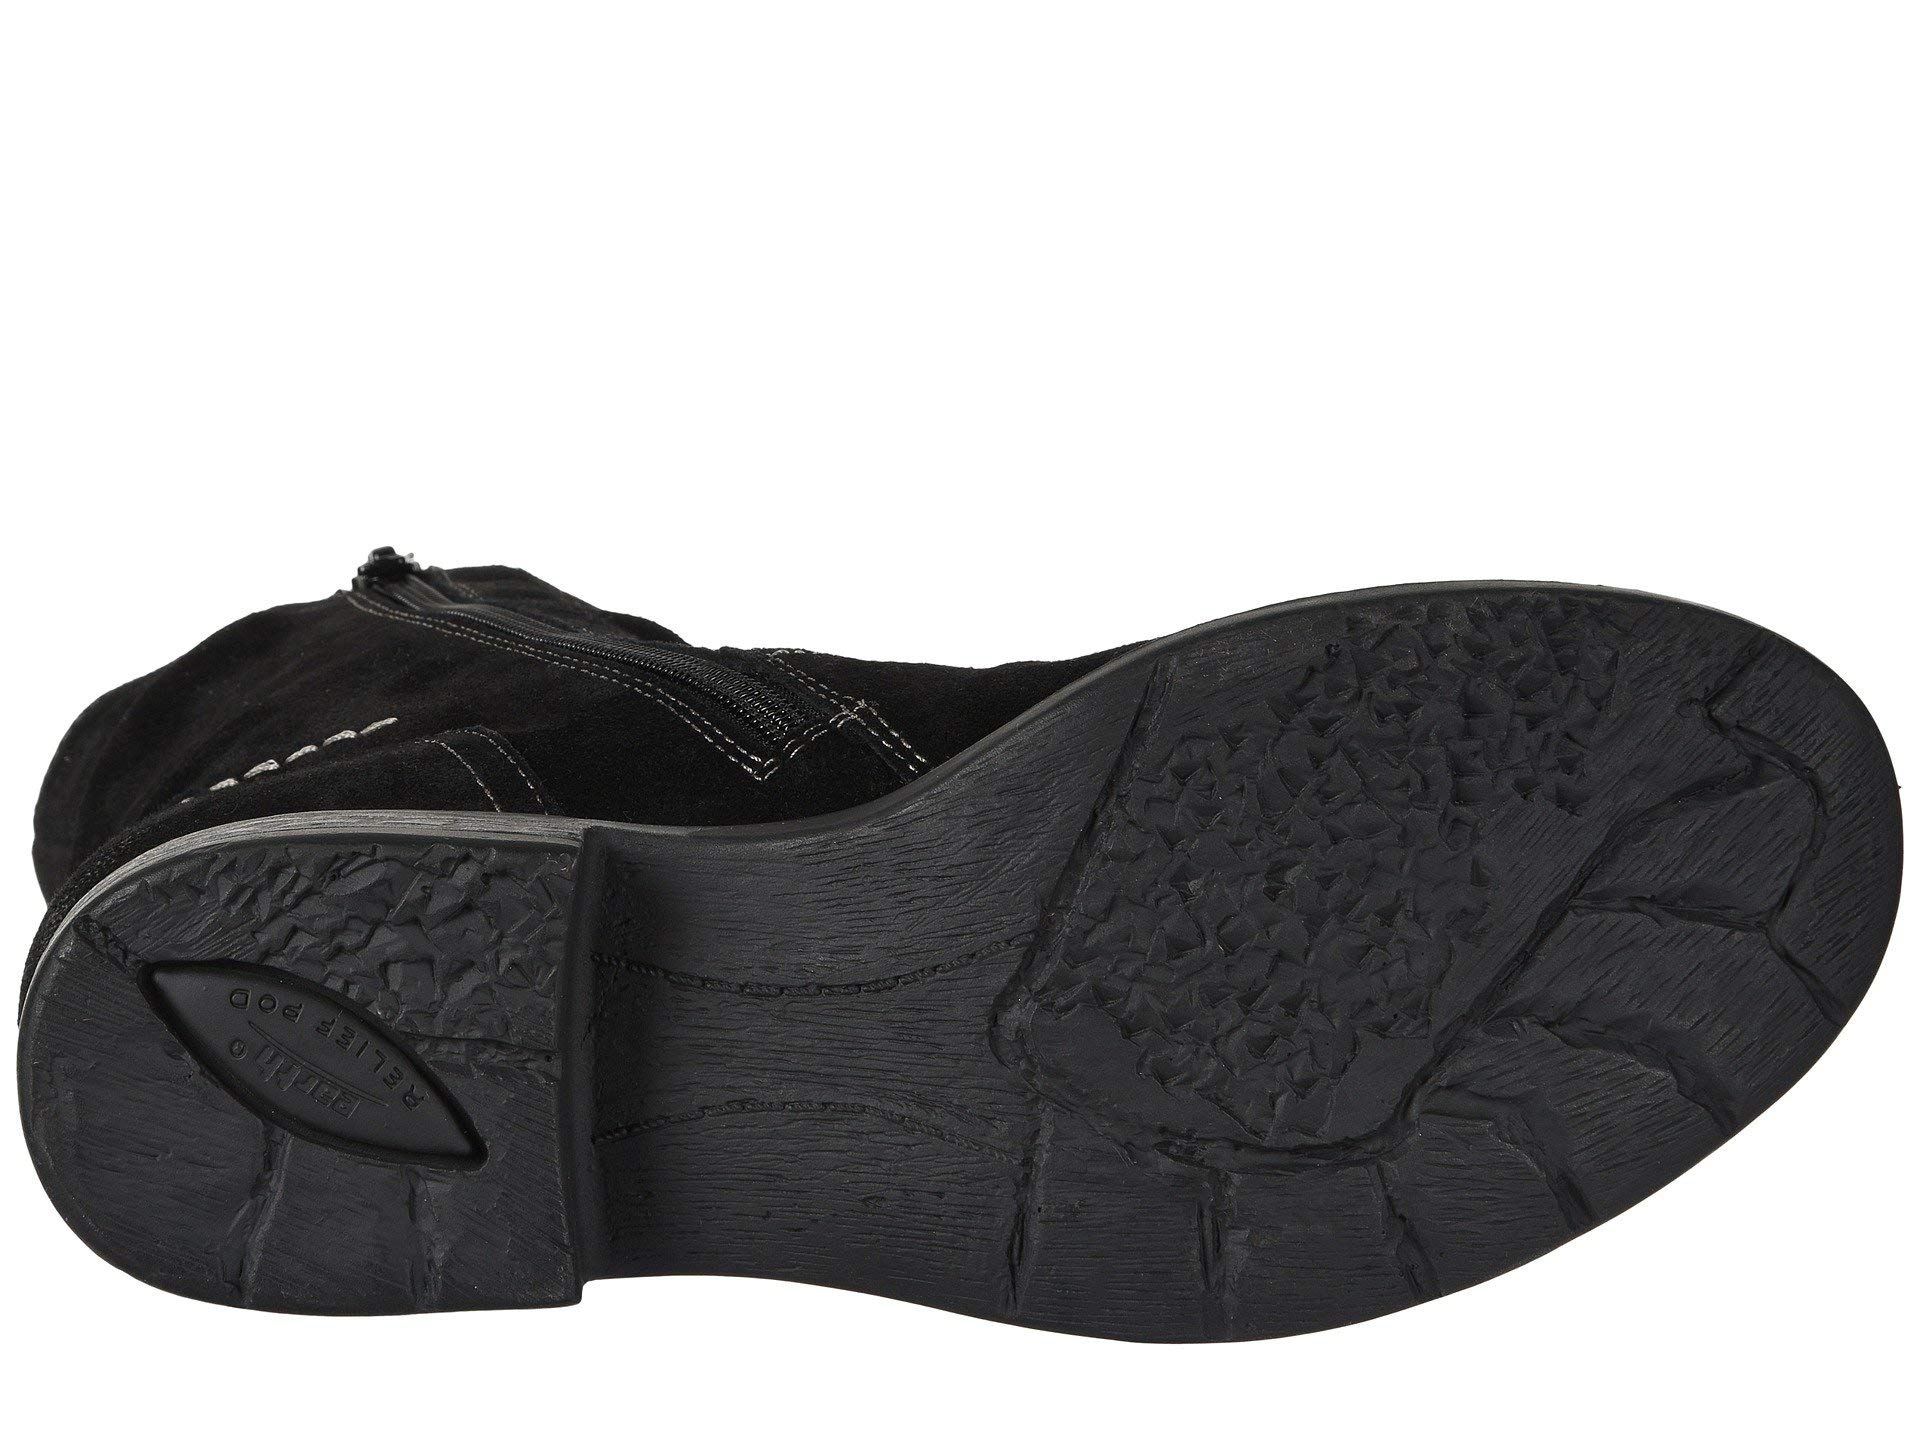circle: (113, 924, 528, 1187)
line: (611, 902, 999, 1198), (113, 924, 528, 1187), (1087, 1103, 1485, 1296), (1575, 729, 1853, 994)
other: (113, 924, 528, 1187), (1191, 620, 1421, 1078), (1087, 1103, 1485, 1296)
quad: (1087, 1103, 1485, 1296), (1575, 729, 1853, 994)
text: (113, 924, 528, 1187)
